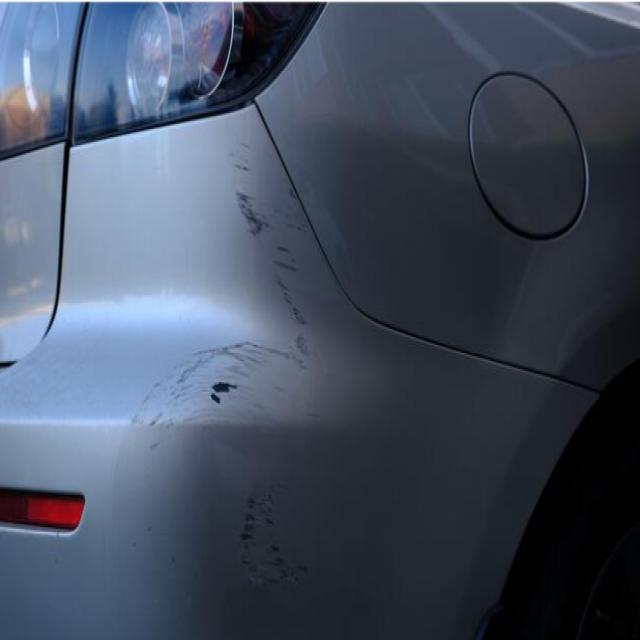scratch: (231, 130, 326, 368), (124, 325, 317, 441), (201, 476, 346, 611)
